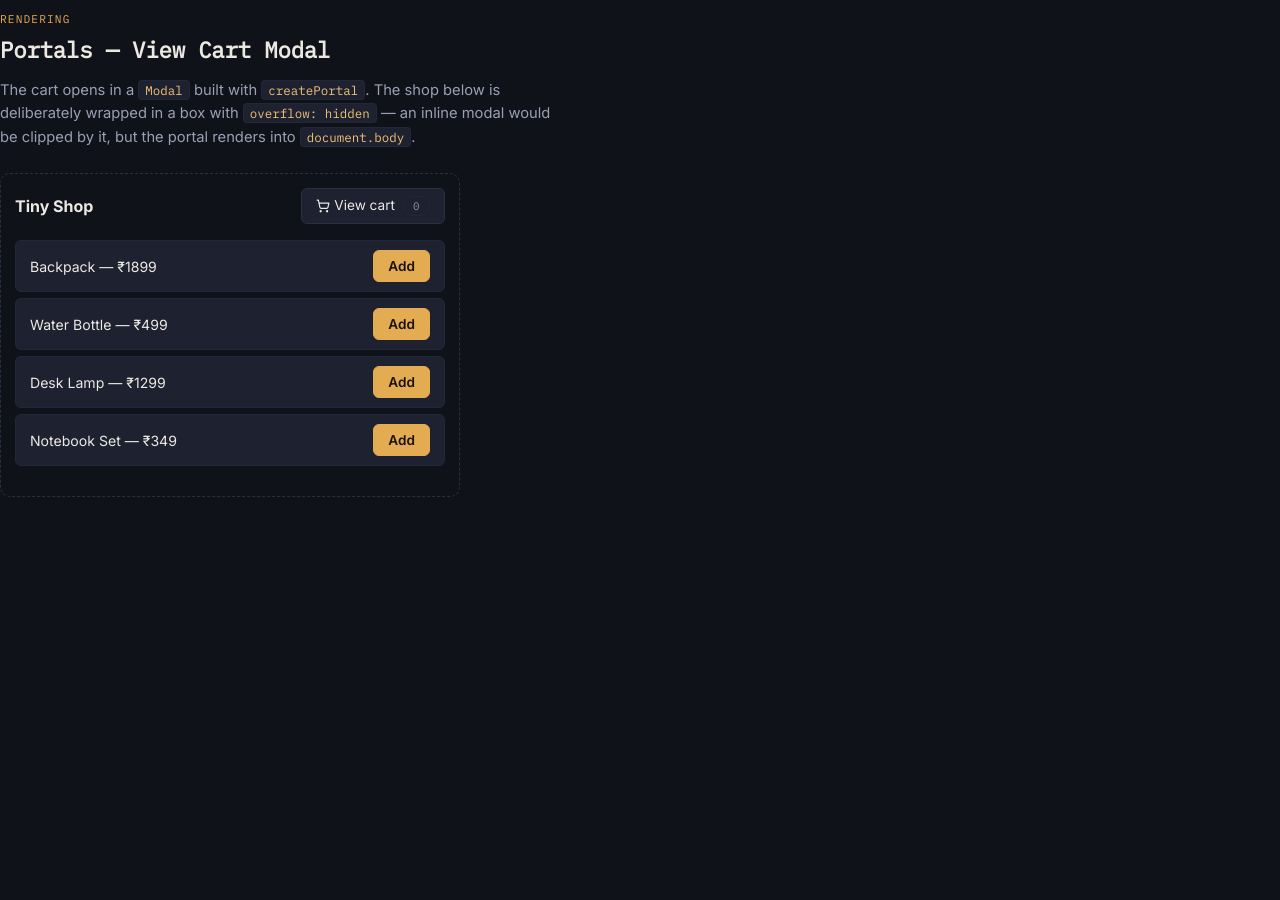
Test case: Task 32 – view cart modal › shows an empty state and disables checkout with no items
The width and height of the screenshot is (1280, 900).
Click the button "View cart 0". click: (373, 206)
box: [301,188,445,224]
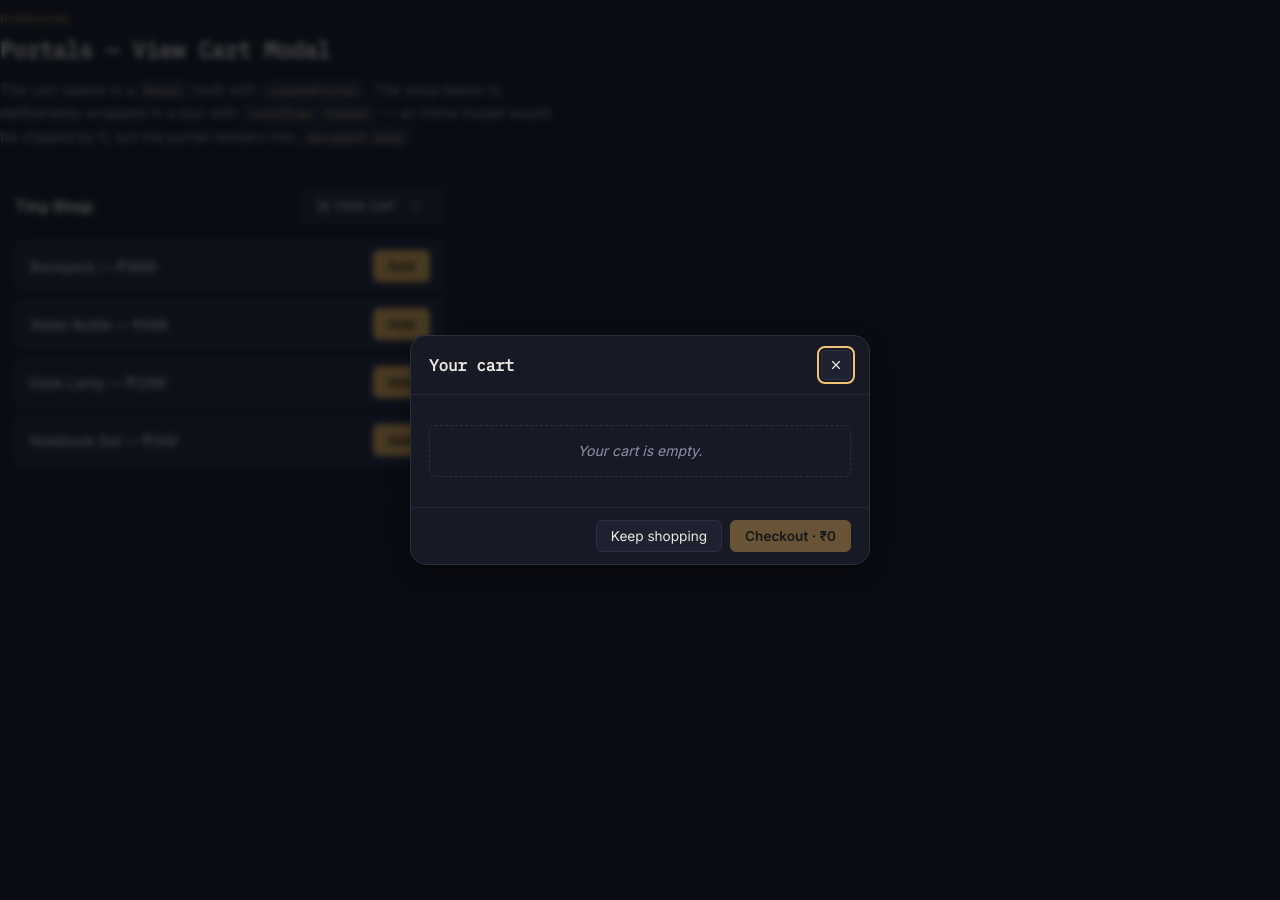
Check: the text "Your cart is empty." is shown, box [429,425,851,477]
Check: the button "Checkout · ₹0" is disabled, box [730,520,851,552]
